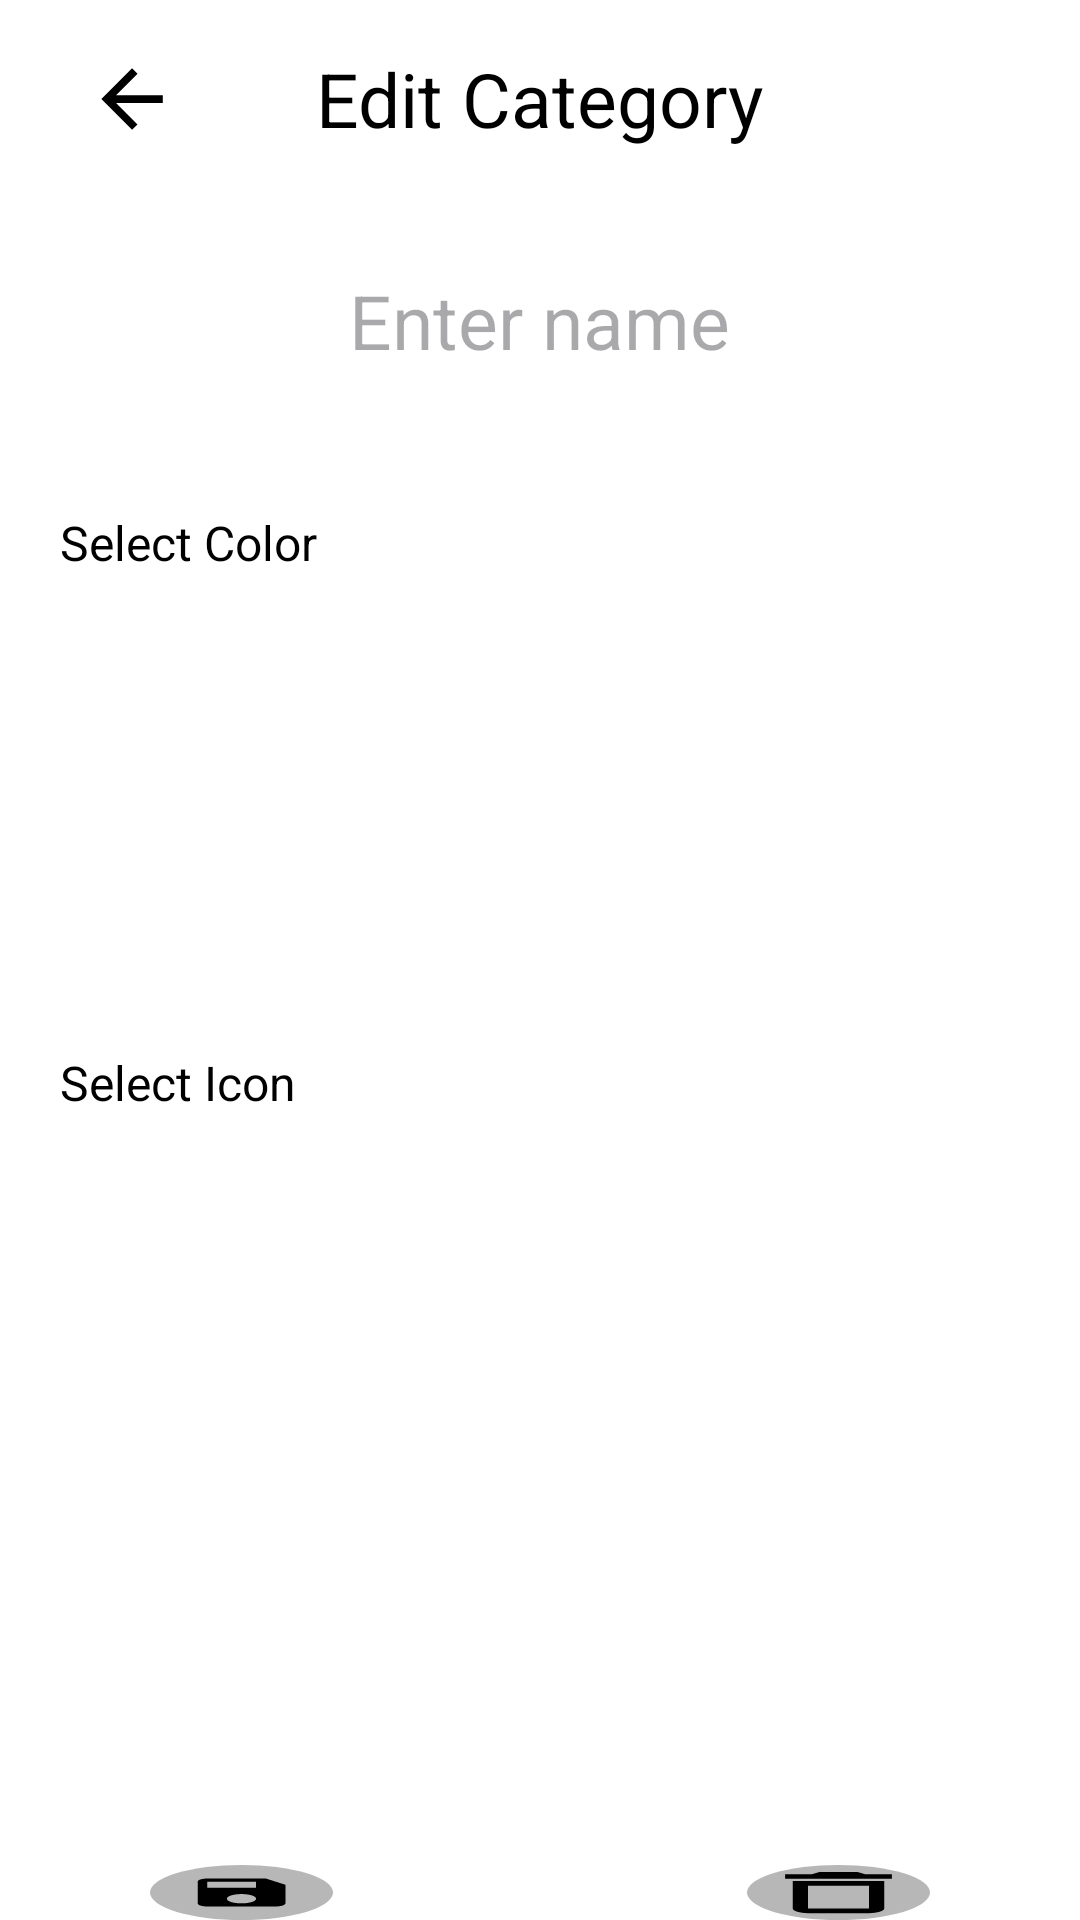

Locate icon controls on the screen. Image size 1080w x 1920h, boxes as [x1,y1,x2,y2].
arrow back: [101,68,163,130]
